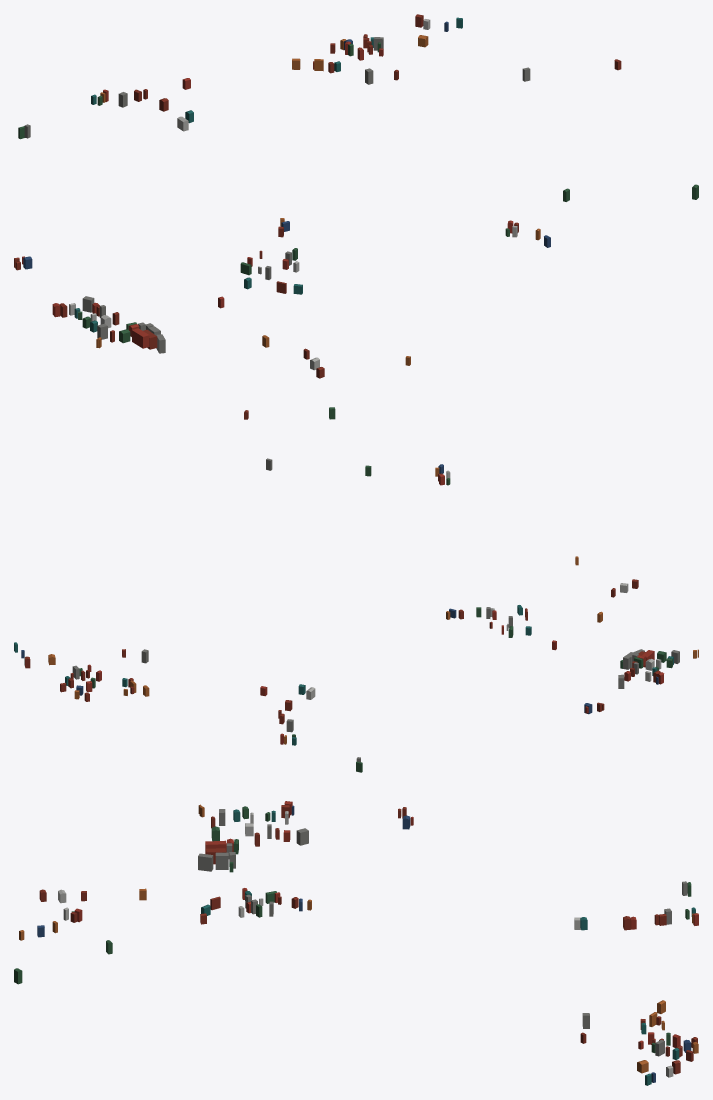
Rendered from near-15-27372-14874.187d4743.glb.
The picture shows the model from 3 angles, top to bottom: view 1: azimuth 30°, elevation 25°; view 2: azimuth 150°, elevation 25°; view 3: azimuth 270°, elevation 25°; orthographic projection. The views are drawn at different scales.
Size of the model in its own units: 1179 by 349 by 1150.
